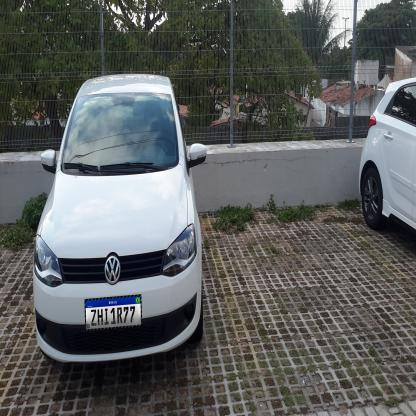PlacaM: (85, 294, 142, 331)
